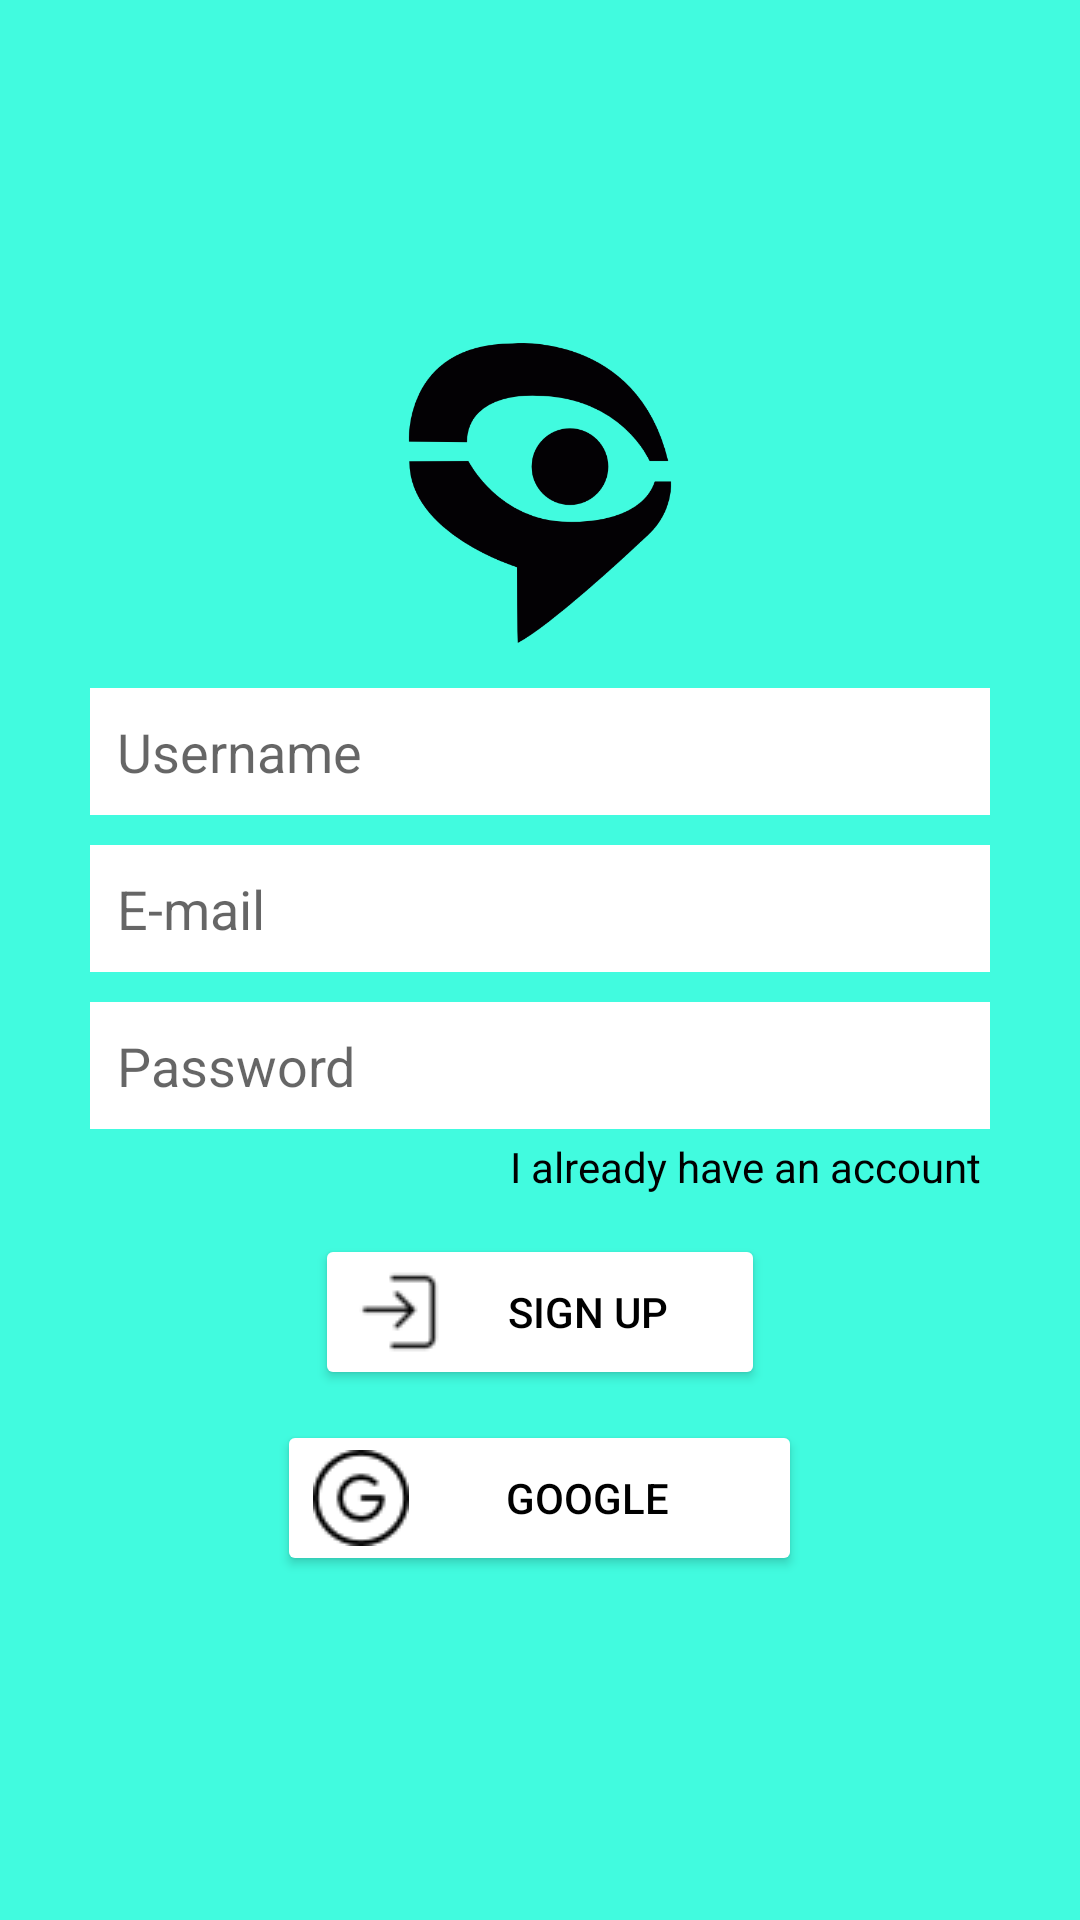

Where to tap for icons on this 1080px x 1920px app screen, as (x=x, y=y):
chat: (x=540, y=493)
